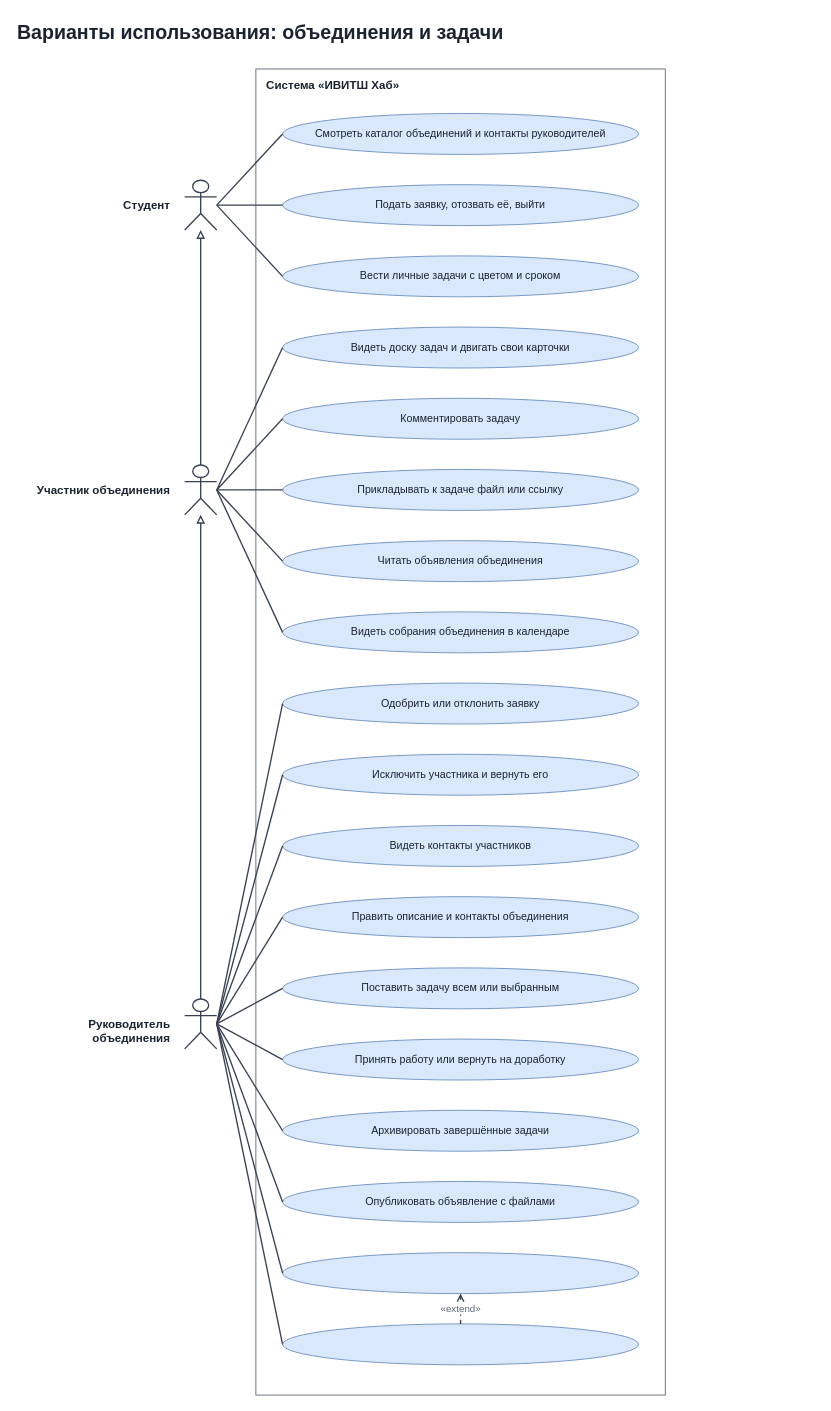
This 831x1411 diagram has some shape labels left out. The centre of each missing label's shape, as x and y in pixels:
Записать итоги и отметить присутствующих: the point at 460,1344
Назначить собрание: the point at 460,1273
